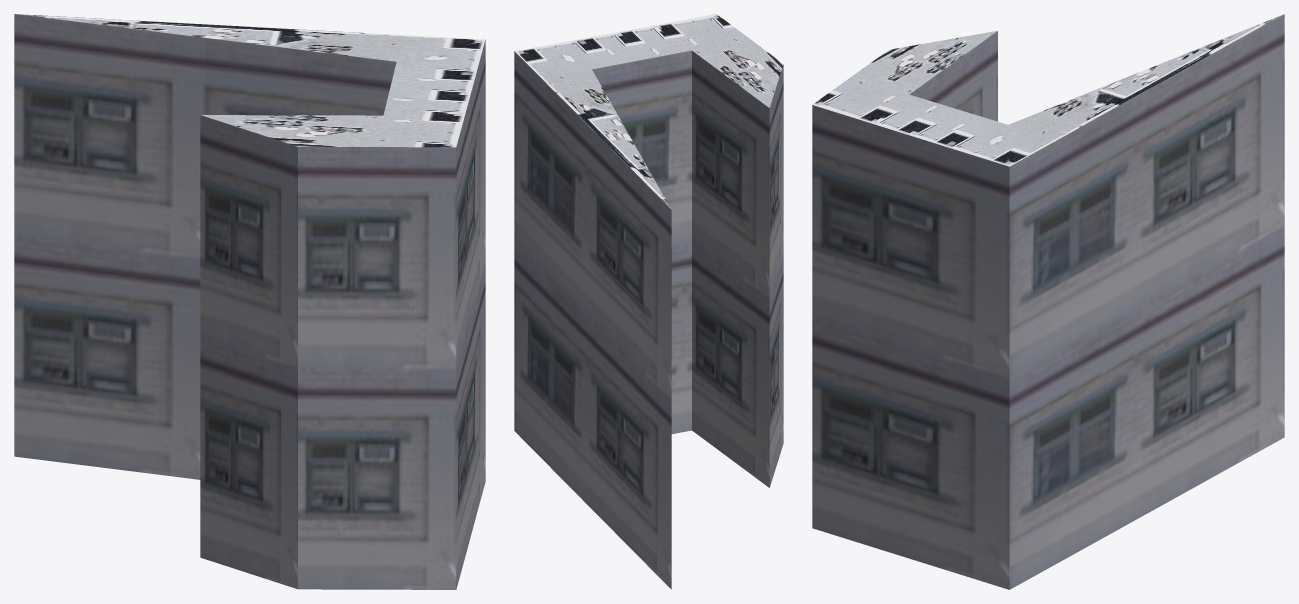
File: ResTex__3892.fbx
3 renders of one model, left to right at view 1: azimuth 30°, elevation 25°; view 2: azimuth 150°, elevation 25°; view 3: azimuth 270°, elevation 25°, orthographic. The views are drawn at different scales.
Visible parts, largest first — view 1: CityEngineMaterial_1_m, CityEngineMaterial_8_m; view 2: CityEngineMaterial_1_m, CityEngineMaterial_8_m; view 3: CityEngineMaterial_1_m, CityEngineMaterial_8_m.
Part boxes in pixels (left/top/right/bottom): CityEngineMaterial_1_m: left=14, top=14, right=485, bottom=589; CityEngineMaterial_8_m: left=16, top=14, right=485, bottom=147; CityEngineMaterial_1_m: left=514, top=50, right=783, bottom=589; CityEngineMaterial_8_m: left=515, top=14, right=783, bottom=208; CityEngineMaterial_1_m: left=812, top=14, right=1284, bottom=589; CityEngineMaterial_8_m: left=812, top=14, right=1283, bottom=166.
Bounding box in the file's own units: 4.64 × 6 × 6.07.
Materials: 2 (2 with a texture image).
